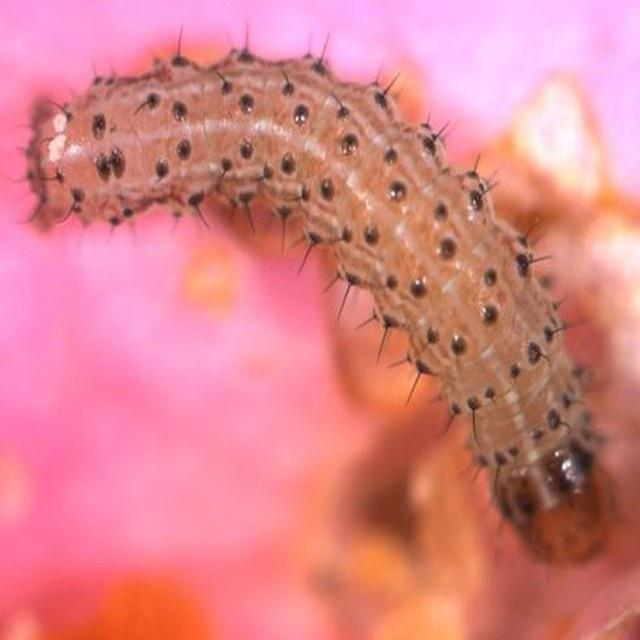gusano_cogollero: (32, 56, 610, 564)
